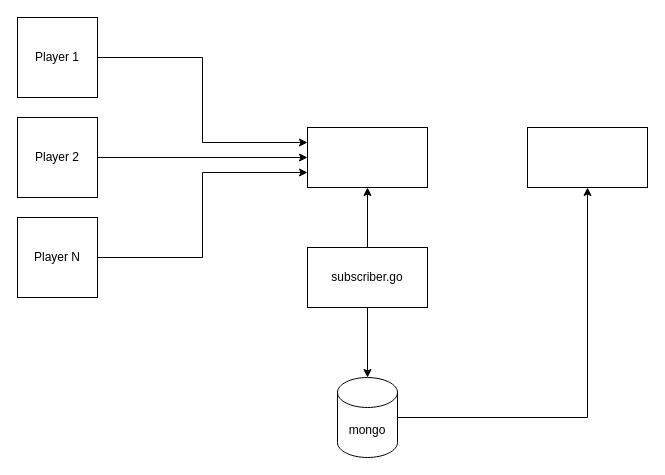
This 665x475 diagram has some shape labels left out. Each missing label, with the centre of its shape:
"grafana" belongs at (587,157).
"NATS" belongs at (367,157).
